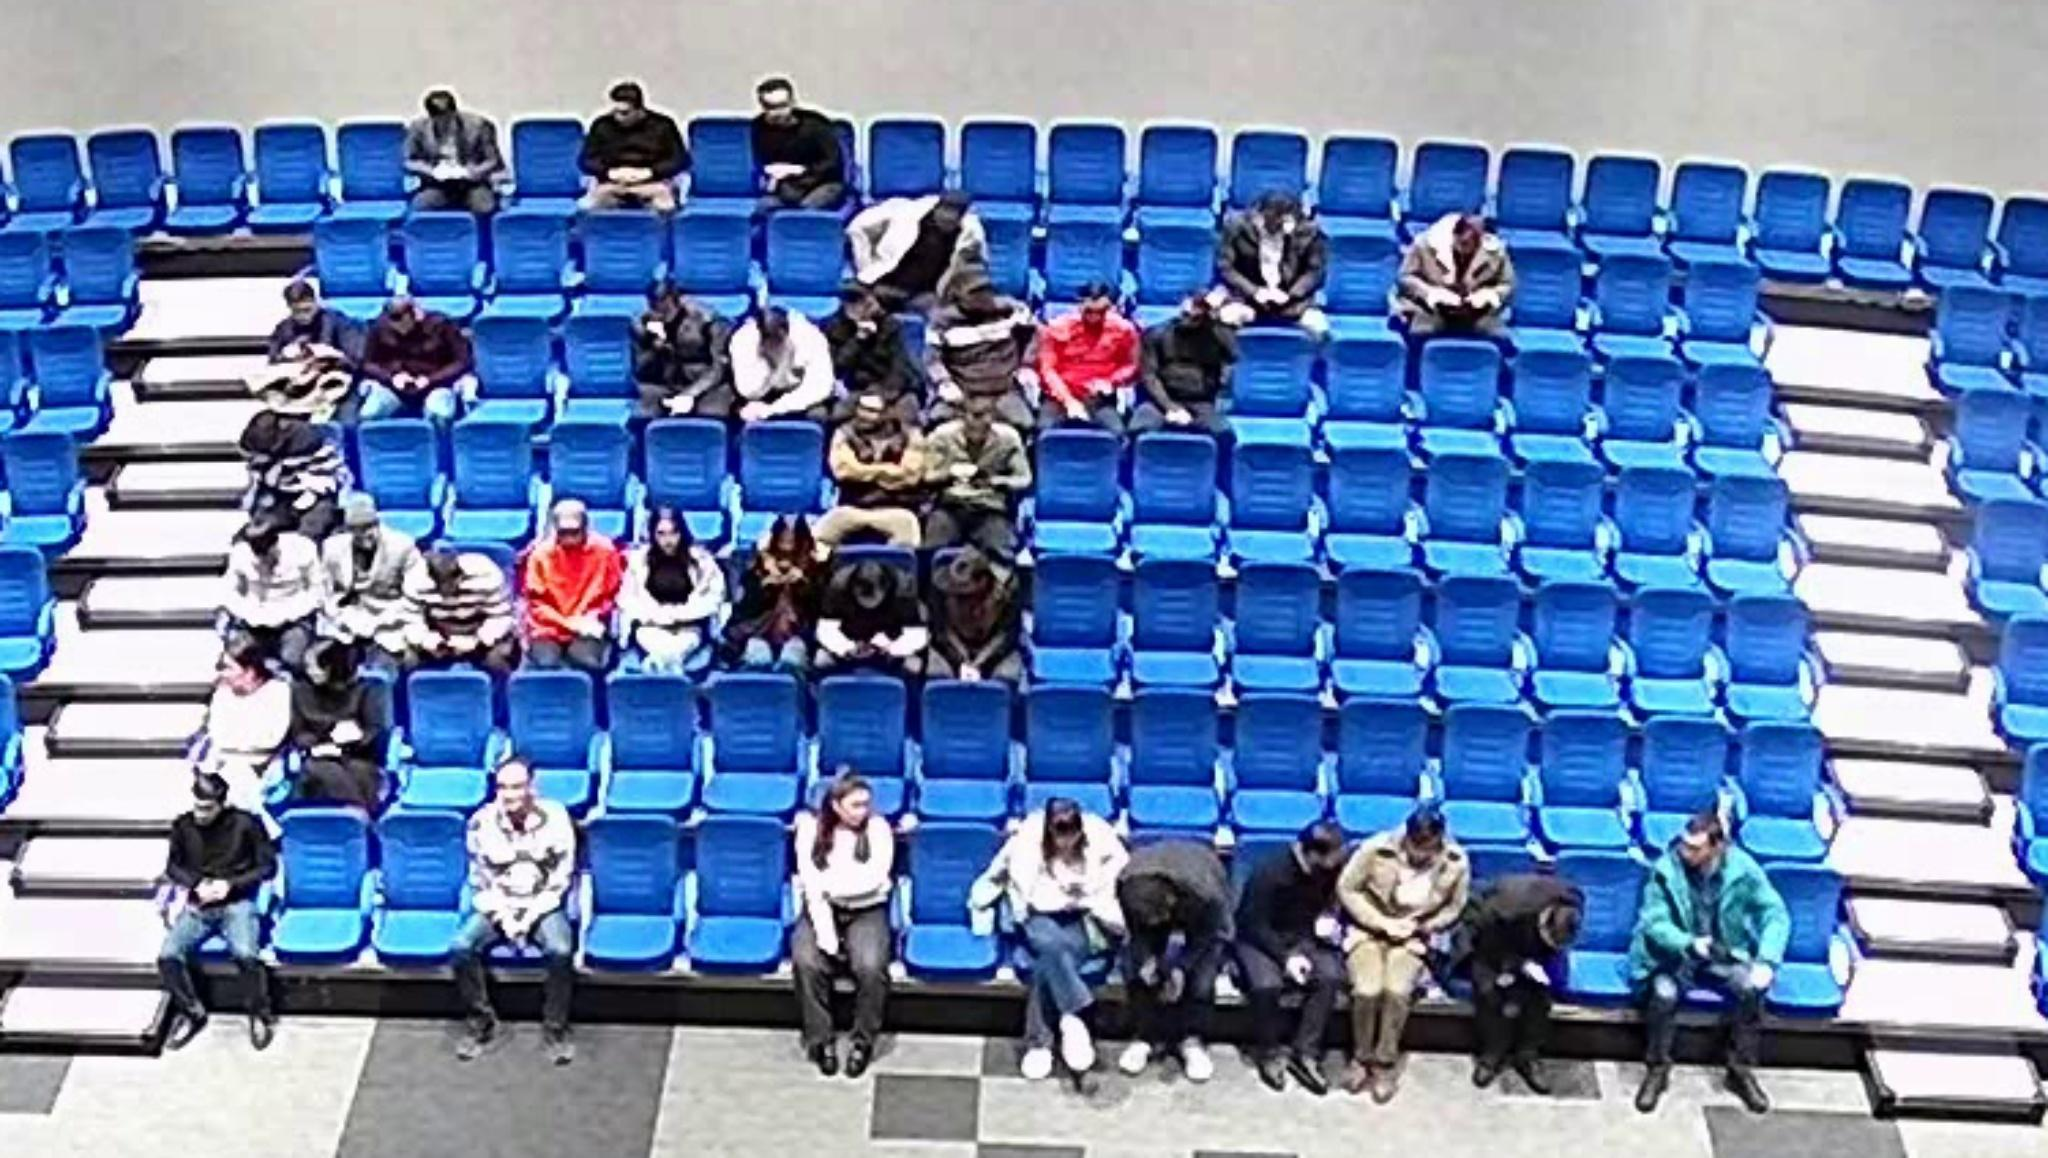empty: (361, 806, 477, 971), (682, 809, 793, 976), (899, 820, 1011, 982), (1536, 848, 1653, 995), (578, 813, 685, 972), (1744, 861, 1854, 1010), (271, 803, 376, 960), (1224, 691, 1328, 830), (598, 667, 700, 808), (1122, 684, 1225, 816), (702, 667, 805, 791), (1014, 681, 1118, 802), (1331, 695, 1432, 819), (505, 666, 599, 798), (816, 670, 916, 794), (399, 664, 499, 787), (916, 675, 1017, 795), (1615, 581, 1719, 695), (1578, 246, 1682, 359), (1438, 698, 1537, 815), (1125, 550, 1224, 668), (1221, 426, 1321, 542), (1428, 567, 1528, 682), (1515, 453, 1613, 570), (1630, 712, 1733, 823), (1225, 556, 1324, 670), (1727, 718, 1829, 827), (1535, 704, 1634, 815), (13, 326, 111, 439), (1321, 435, 1418, 547), (1329, 559, 1428, 668), (1419, 439, 1515, 552), (1698, 464, 1795, 574), (1027, 552, 1122, 663), (447, 408, 542, 521), (1605, 459, 1703, 566), (1526, 575, 1622, 685), (1578, 153, 1671, 266), (543, 414, 636, 526), (353, 416, 446, 528), (1719, 585, 1816, 691), (1592, 346, 1688, 453), (1948, 390, 2037, 505), (1030, 424, 1124, 532), (1924, 284, 2017, 394), (1128, 428, 1221, 536), (737, 418, 830, 526), (1495, 245, 1585, 356), (0, 435, 89, 547), (641, 416, 733, 525), (46, 227, 139, 332), (1833, 173, 1917, 288), (1129, 125, 1222, 229), (1504, 339, 1595, 443), (1965, 500, 2048, 613), (1225, 324, 1321, 422), (1132, 215, 1222, 319), (1672, 246, 1761, 352), (1668, 162, 1754, 270), (1751, 167, 1836, 277), (670, 207, 762, 305), (1684, 356, 1774, 457), (1044, 120, 1129, 225), (762, 208, 852, 308), (1318, 329, 1408, 429), (162, 125, 245, 234), (1041, 214, 1129, 315), (1227, 128, 1314, 231), (1315, 132, 1401, 236), (485, 208, 577, 305), (324, 120, 411, 221), (77, 128, 162, 232), (574, 205, 670, 297), (1415, 336, 1505, 433), (394, 208, 482, 307), (311, 210, 398, 310), (246, 122, 326, 231), (1494, 148, 1578, 250), (1318, 235, 1407, 332), (1405, 139, 1492, 238), (501, 115, 587, 215), (958, 118, 1039, 221), (1917, 187, 1997, 291), (678, 115, 760, 217), (466, 308, 556, 400), (864, 118, 948, 215), (556, 307, 643, 400), (1989, 612, 2048, 742), (3, 131, 79, 231), (0, 549, 56, 677), (966, 211, 1039, 305), (1990, 194, 2048, 291), (0, 229, 46, 329)
